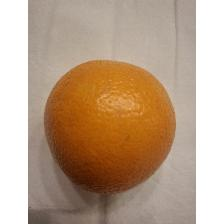Mandarine: (41, 57, 178, 197)
